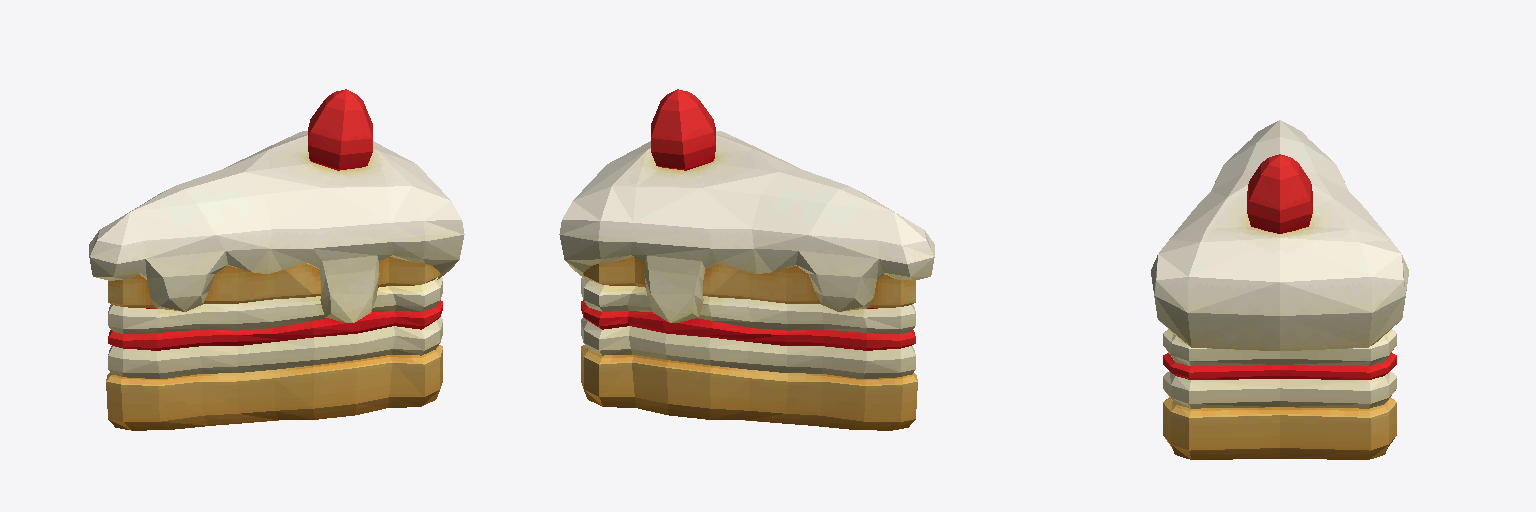
3 views of the same model, side by side, from view 1: azimuth 30°, elevation 25°; view 2: azimuth 150°, elevation 25°; view 3: azimuth 270°, elevation 25° (orthographic).
Parts seen in each view (by area): view 1: Cake; view 2: Cake; view 3: Cake.
Boxes of the visible parts, x1=… form: Cake: x1=89, y1=89, x2=464, y2=430; Cake: x1=559, y1=89, x2=934, y2=430; Cake: x1=1151, y1=120, x2=1408, y2=459.
Size of the model in its own units: 0.1929 by 0.16 by 0.1296.
1 materials, 1 textured.